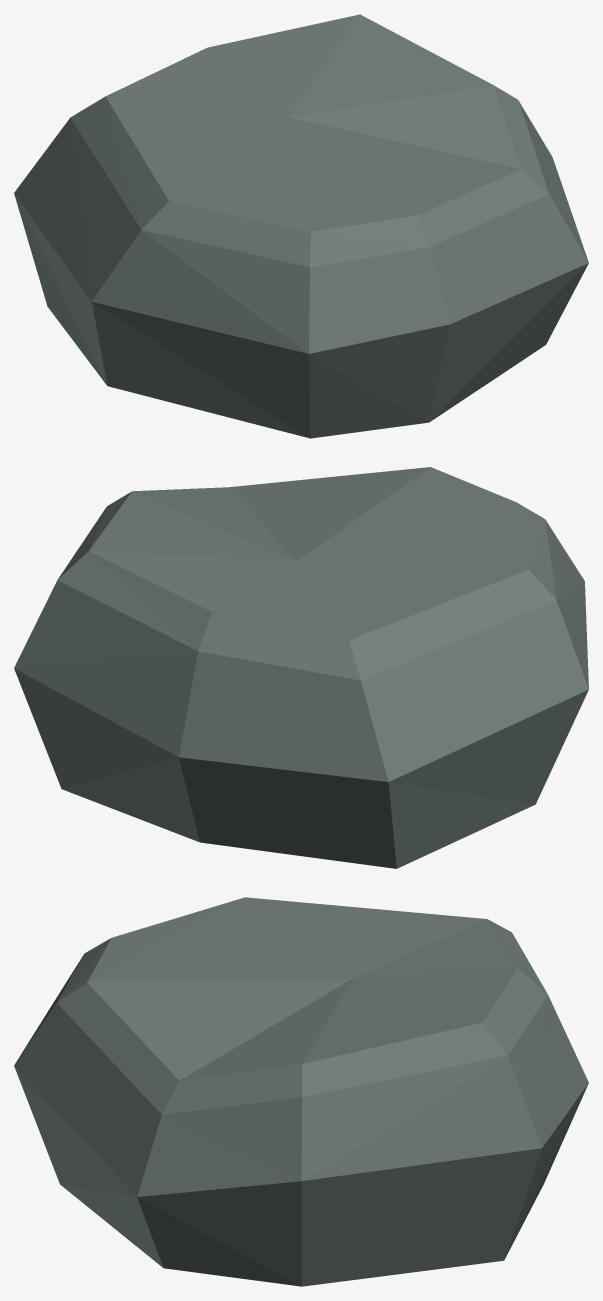
The model's file is Rock_01.fbx.
3 views of the same model, one above another, from view 1: azimuth 30°, elevation 25°; view 2: azimuth 150°, elevation 25°; view 3: azimuth 270°, elevation 25° (orthographic). The views are drawn at different scales.
Parts seen in each view (by area): view 1: Rock_01; view 2: Rock_01; view 3: Rock_01.
Part boxes in pixels (<box>): Rock_01: <box>14,14,588,438</box>; Rock_01: <box>14,467,588,868</box>; Rock_01: <box>14,897,588,1286</box>.
Size of the model in its own units: 0.5168 by 0.2315 by 0.524.
